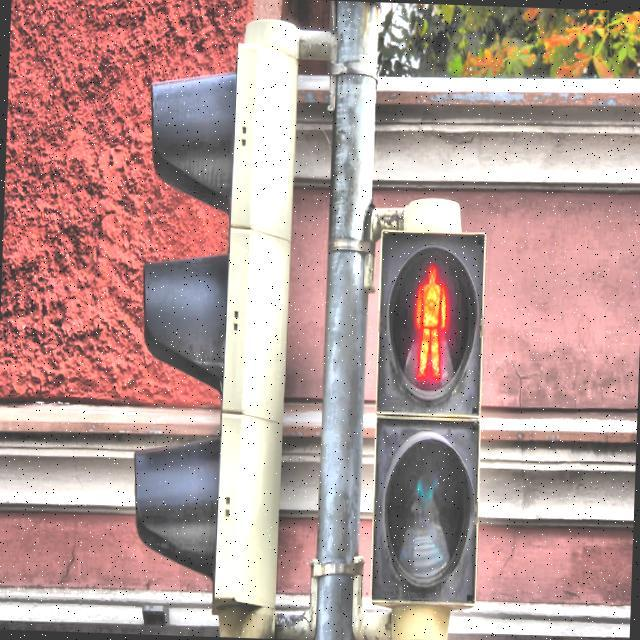red_light: (411, 260, 450, 388)
